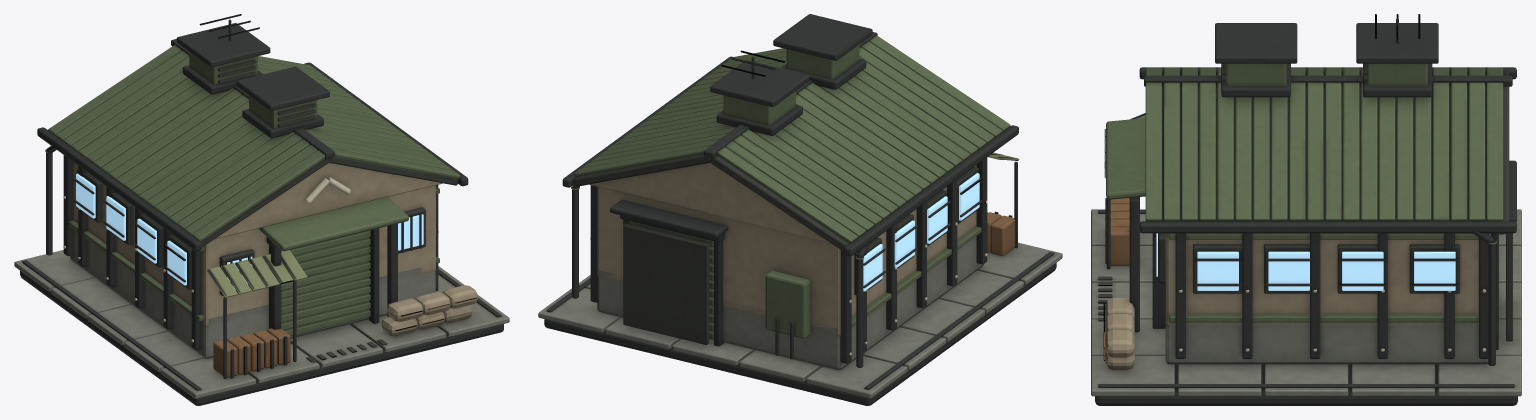
File: guard.glb
3 renders of one model, left to right at view 1: azimuth 30°, elevation 25°; view 2: azimuth 150°, elevation 25°; view 3: azimuth 270°, elevation 25°, orthographic. The views are drawn at different scales.
Visible parts, largest first — view 1: Imperial Guard Muster Hall | complete authored assembly; view 2: Imperial Guard Muster Hall | complete authored assembly; view 3: Imperial Guard Muster Hall | complete authored assembly.
Boxes of the visible parts, left/top/right/bottom form: Imperial Guard Muster Hall | complete authored assembly: left=14, top=14, right=509, bottom=405; Imperial Guard Muster Hall | complete authored assembly: left=538, top=14, right=1062, bottom=405; Imperial Guard Muster Hall | complete authored assembly: left=1091, top=14, right=1521, bottom=405.
Size of the model in its own units: 4.97 by 3.86 by 4.97.
1 material, 1 textured.
